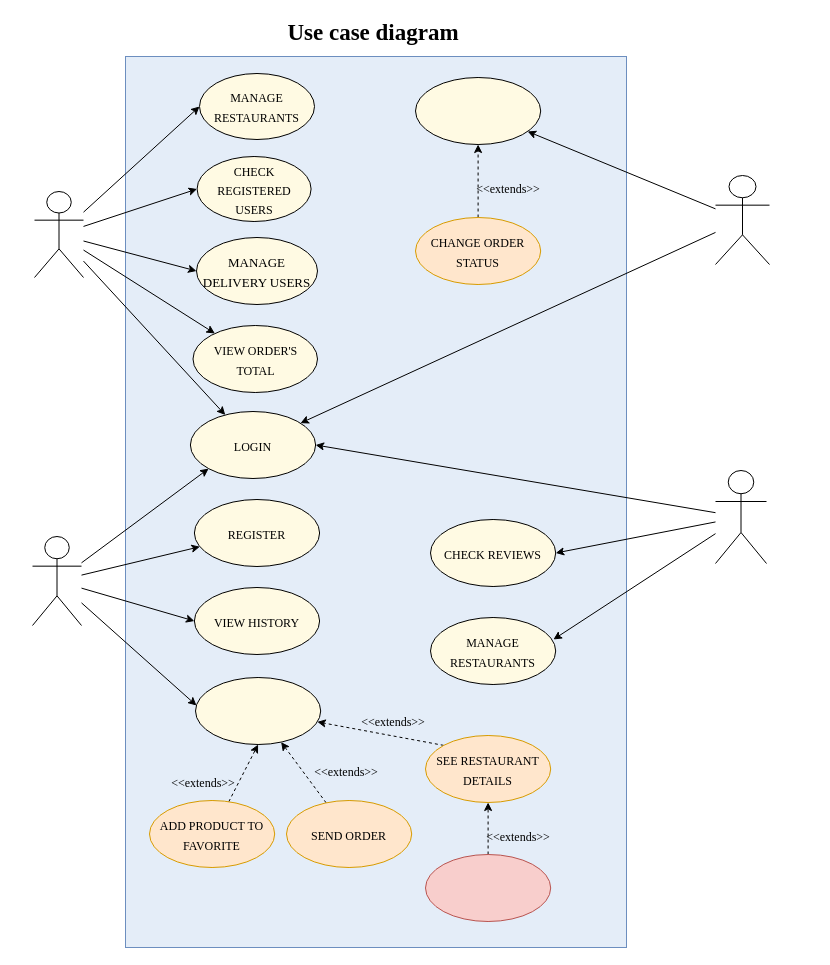
The diagram is 830 pixels wide and 965 high, and some of its shapes have lost their labels. The box of each missing label's shape, as (x1, y1, x2, y2) in pixels:
ADMIN: (34, 190, 84, 278)
CHOOSE RESTAURANT: (194, 676, 321, 744)
CLIENT USER: (32, 536, 82, 626)
DELIVERY USER: (714, 174, 770, 264)
GIVE REVIEWS: (424, 854, 551, 922)
RESTAURANT MANAGER: (714, 470, 766, 564)
VIEW ORDERS: (414, 76, 541, 144)
